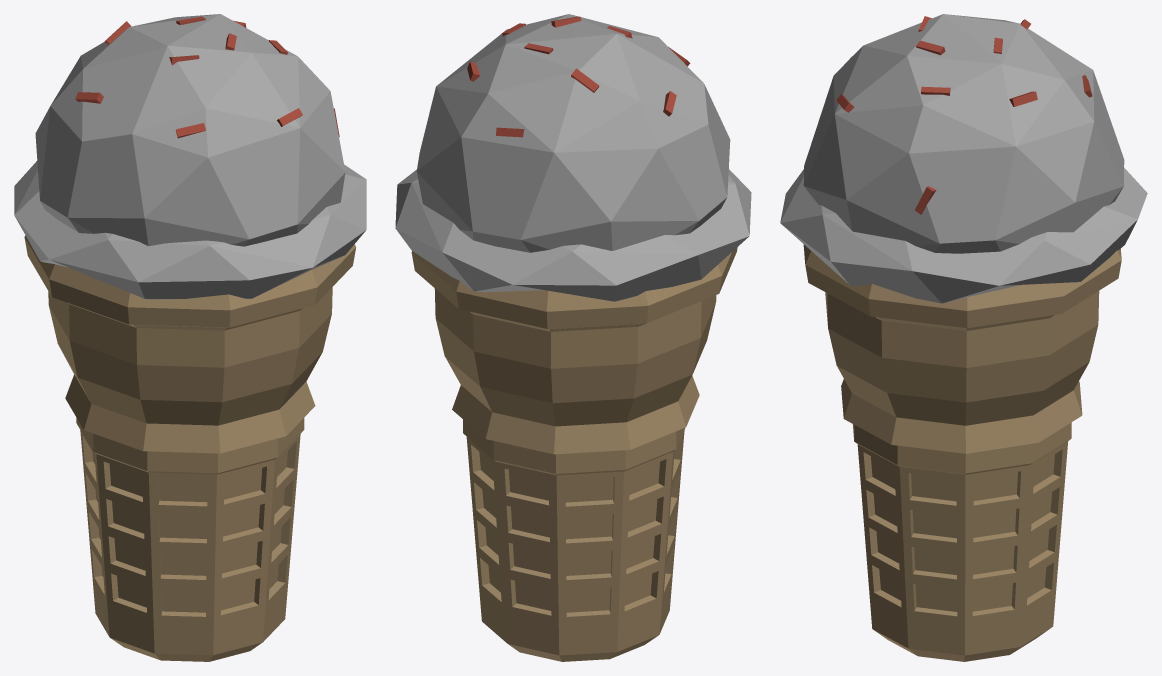
Rendered from Ice Cream.glb.
3 renders of one model, left to right at view 1: azimuth 30°, elevation 25°; view 2: azimuth 150°, elevation 25°; view 3: azimuth 270°, elevation 25°, orthographic.
Visible parts, largest first — view 1: IceCream_3; view 2: IceCream_3; view 3: IceCream_3.
Part boxes in pixels (box(x1,y1,x2,y2)): IceCream_3: box(14, 14, 366, 661); IceCream_3: box(395, 14, 751, 661); IceCream_3: box(780, 14, 1147, 661).
Size of the model in its own units: 0.0556 by 0.1 by 0.0556.
